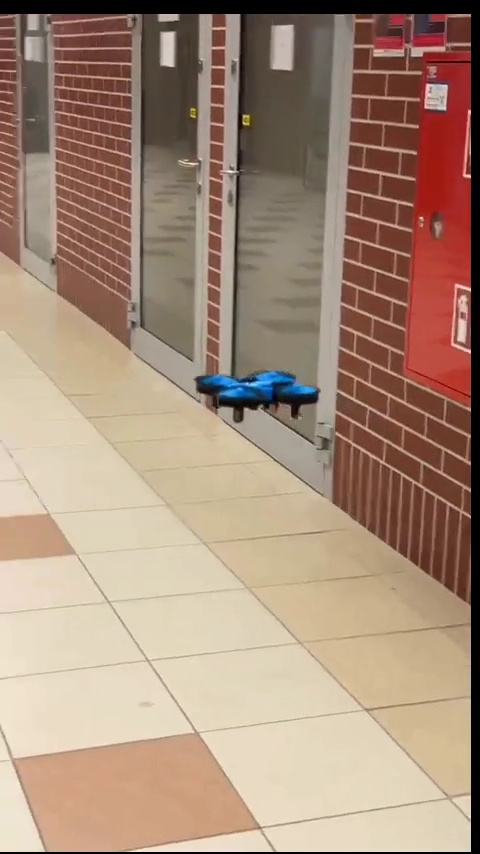drone: (196, 371, 323, 420)
